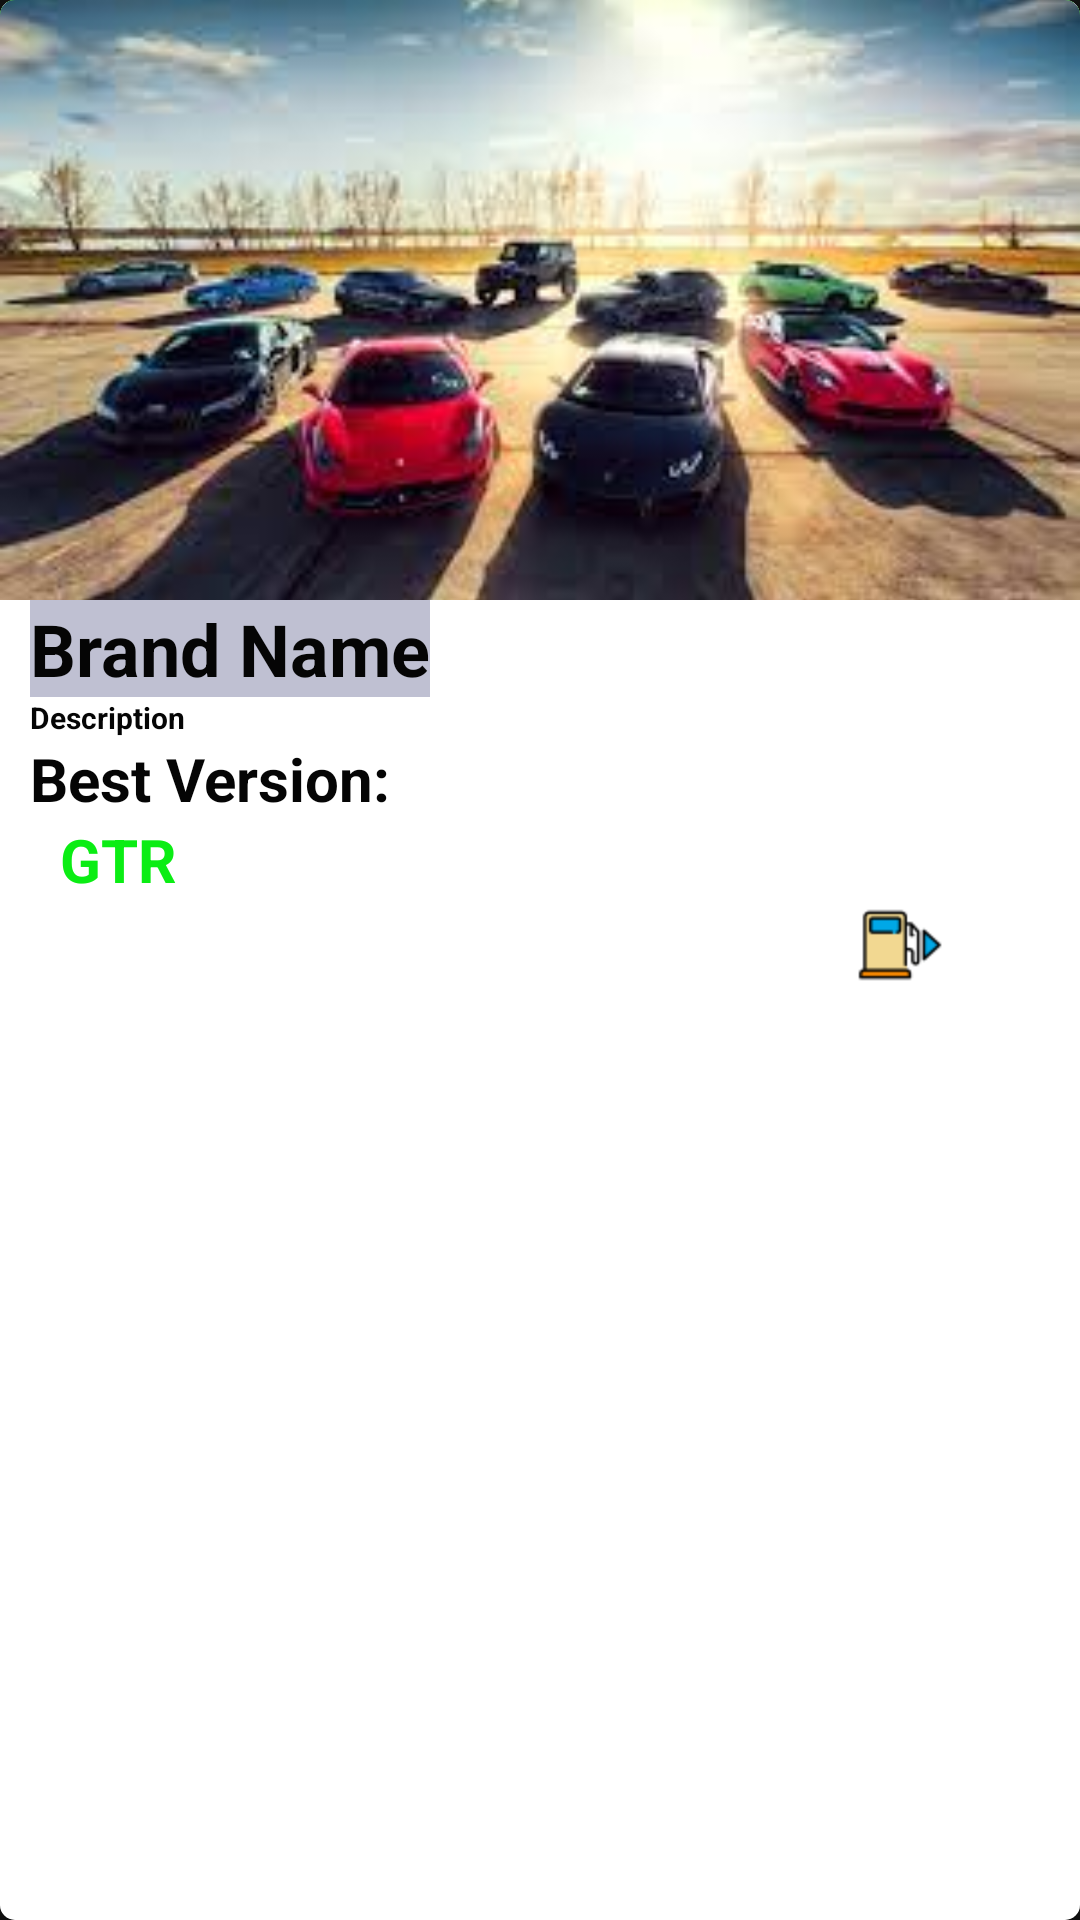

Icons on this 1080×1920 Android screen, each with the point to tap as (x=x, y=y):
fuelsmaller: (x=900, y=945)
